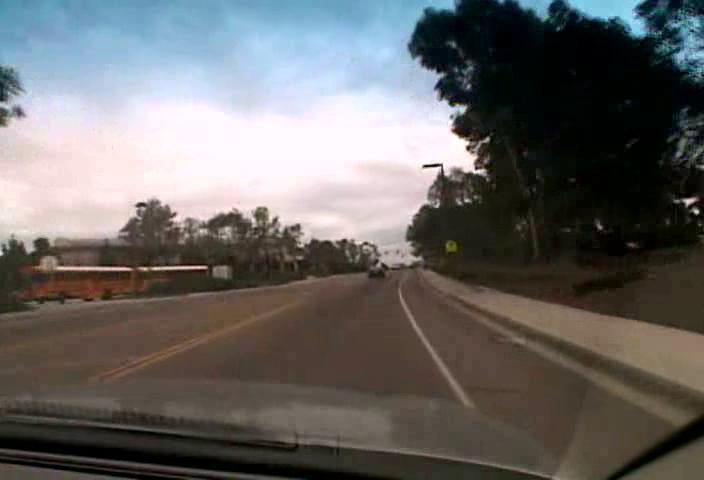school: (444, 238, 457, 249)
